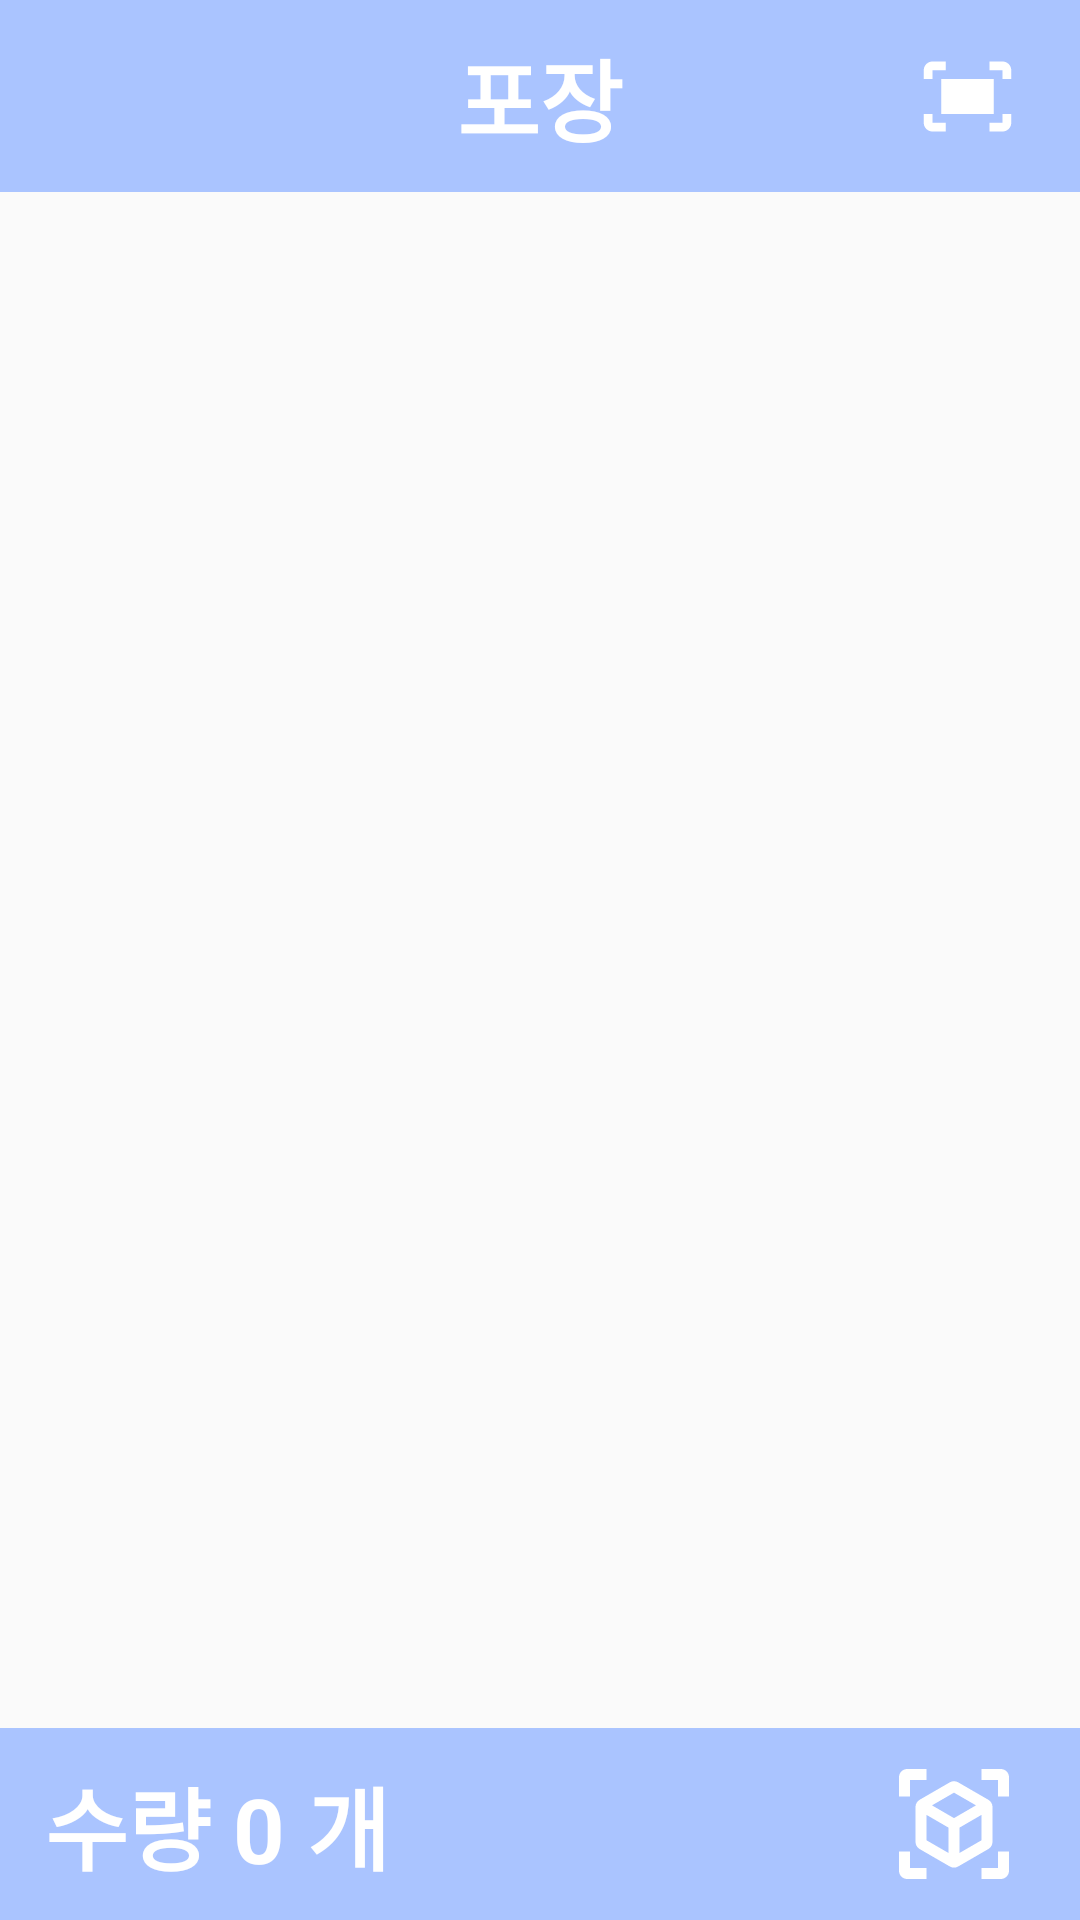

Locate icon controls on the screen. Image size 1080w x 1920h, boxes as {"x1": x1, "y1": y1, "x2": x2, "y2": y2}.
scan: {"x1": 924, "y1": 61, "x2": 1011, "y2": 132}
